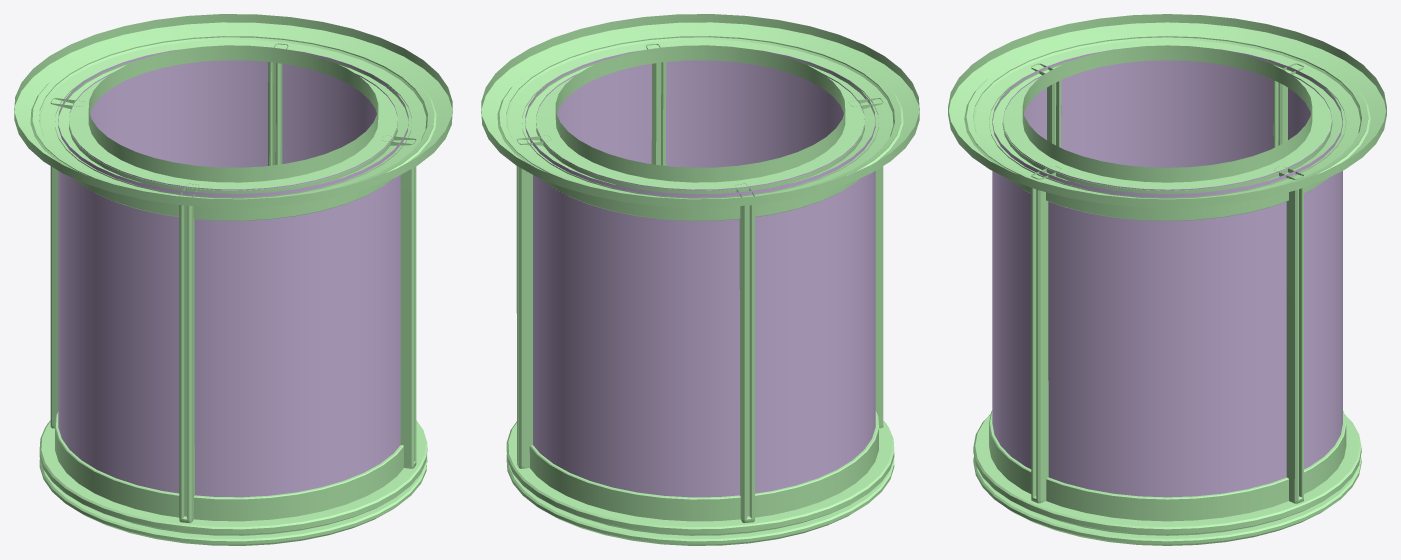
File: box_dropper.fbx
The picture shows the model from 3 angles, left to right: view 1: azimuth 30°, elevation 25°; view 2: azimuth 150°, elevation 25°; view 3: azimuth 270°, elevation 25°; orthographic projection.
Parts seen in each view (by area): view 1: Body_Box_dropper_reference.smd; view 2: Body_Box_dropper_reference.smd; view 3: Body_Box_dropper_reference.smd.
Boxes of the visible parts, x1,y1,x2,y2 form: Body_Box_dropper_reference.smd: (14, 14, 452, 545); Body_Box_dropper_reference.smd: (481, 14, 919, 545); Body_Box_dropper_reference.smd: (948, 14, 1386, 545).
Bounding box in the file's own units: 207 × 187 × 207.
